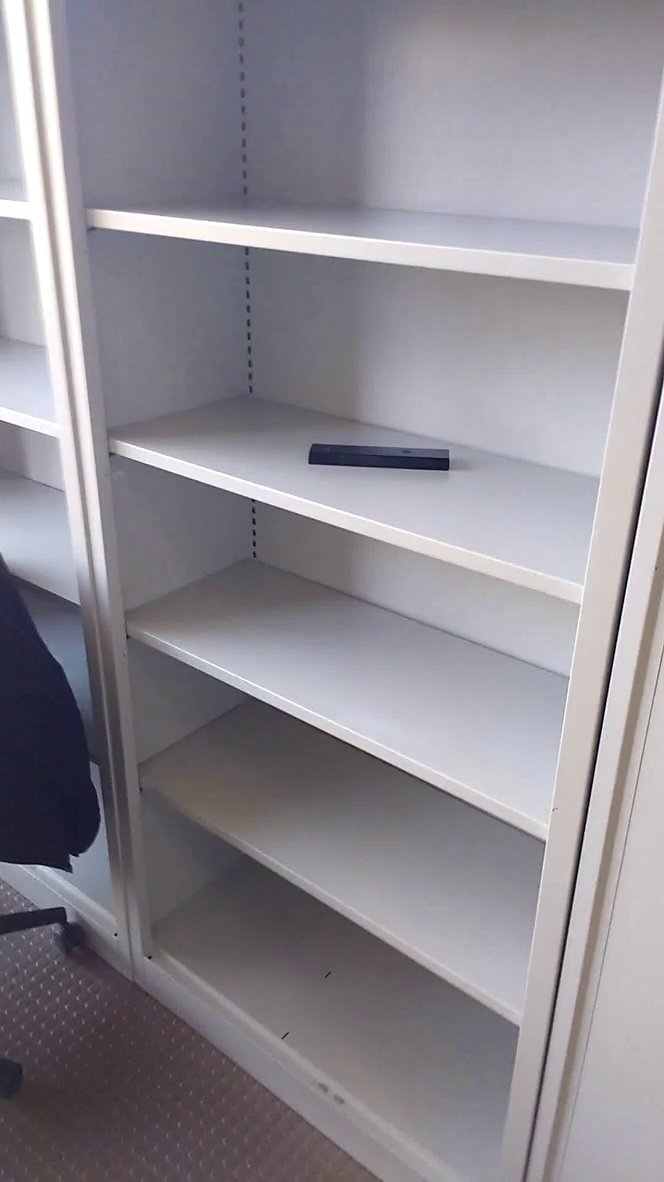remote: (292, 436, 459, 483)
